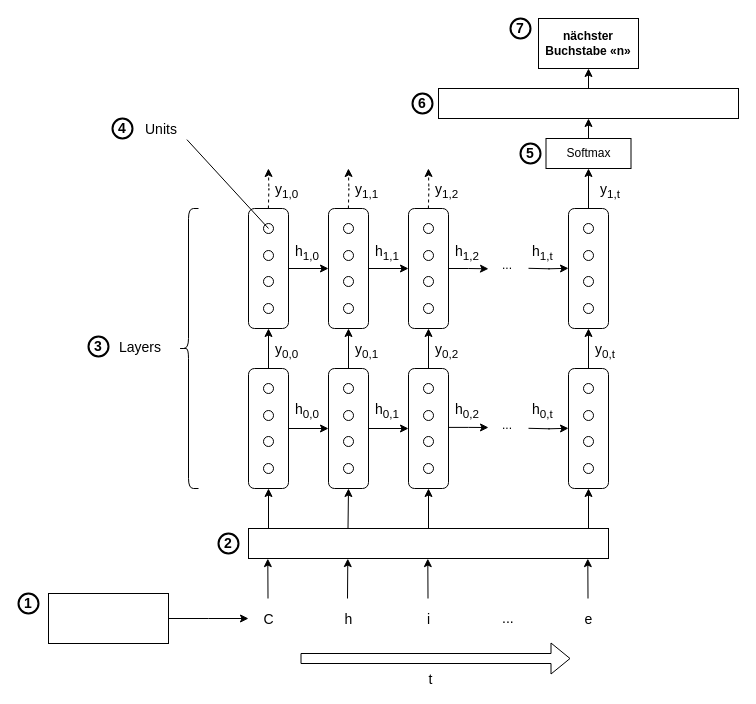
Image size: 756x704. Some labels were removed from this diagram. Here are the shapes that lost their labels. From the top down, the box of each, then its label:
(438, 88, 738, 118): Decodieren von Wahrscheinlichkeits-Vektor
(248, 528, 608, 558): Encodieren zu 1-Hot-Vektor
(48, 592, 168, 644): Trainingssequenz «Chicke»
